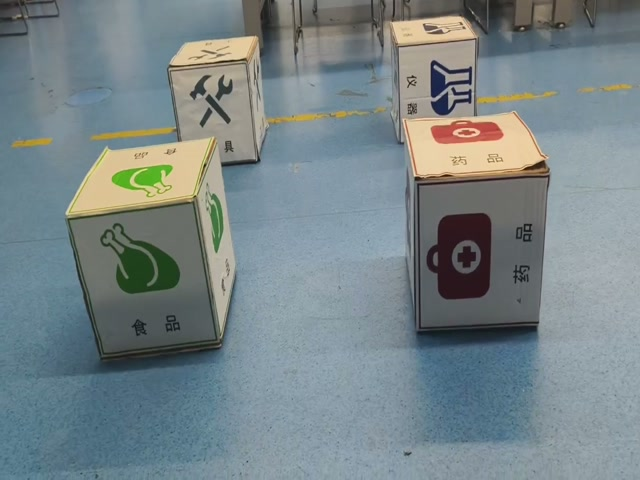Cube_food: (68, 132, 215, 219)
Cube_ins: (386, 13, 476, 50)
Cube_medicine: (403, 108, 548, 179)
Cube_tool: (165, 36, 260, 68)
